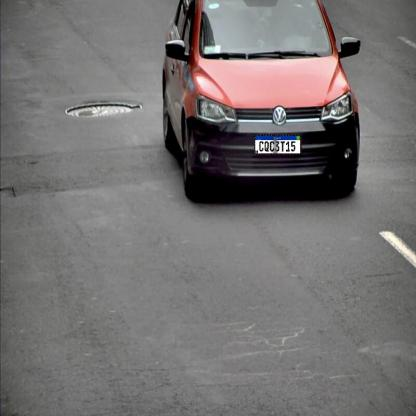PlacaM: (254, 134, 301, 154)
